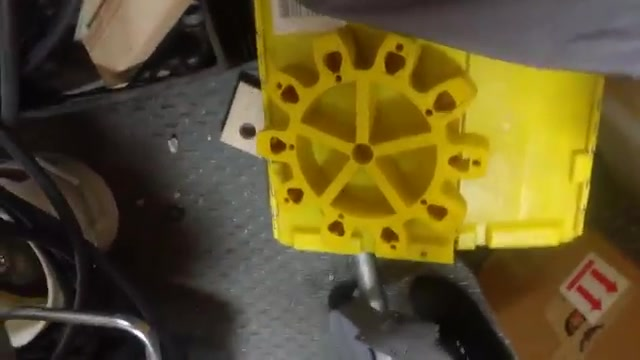gear: (247, 24, 500, 274)
